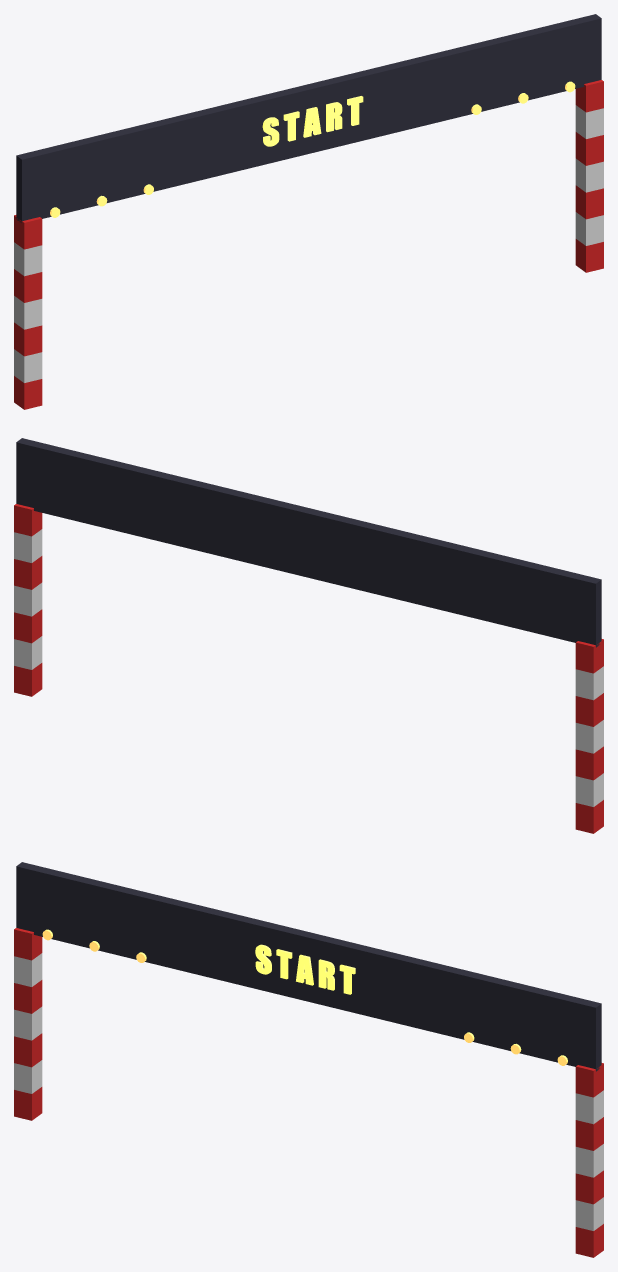
File: gantry_start.glb
3 views of the same model, one above another, from view 1: azimuth 30°, elevation 25°; view 2: azimuth 150°, elevation 25°; view 3: azimuth 330°, elevation 25° (orthographic).
Visible parts, largest first — view 1: banner, txt, p.006, p.002, p, p.001, p.003, p.010, p.012, p.004, p.009, p.011 (+5 smaller); view 2: banner, p.006, p.002, p, p.001, p.003, p.010, p.012, p.004, p.009, p.011, p.005 (+3 smaller); view 3: banner, txt, p.013, p.009, p.007, p.008, p.003, p.005, p.010, p.002, p.011, p.004 (+5 smaller).
Part boxes in pixels (bbox=[...]): banner: bbox=[16, 14, 601, 222]; txt: bbox=[262, 96, 363, 146]; p.006: bbox=[14, 215, 42, 249]; p.002: bbox=[14, 322, 42, 356]; p: bbox=[14, 376, 42, 409]; p.001: bbox=[14, 349, 42, 382]; p.003: bbox=[14, 296, 42, 329]; p.010: bbox=[575, 158, 603, 192]; p.012: bbox=[575, 105, 603, 138]; p.004: bbox=[14, 269, 42, 302]; p.009: bbox=[575, 185, 603, 219]; p.011: bbox=[575, 132, 603, 165]; banner: bbox=[16, 438, 601, 647]; p.006: bbox=[575, 639, 603, 673]; p.002: bbox=[575, 746, 603, 780]; p: bbox=[575, 800, 603, 833]; p.001: bbox=[575, 773, 603, 806]; p.003: bbox=[575, 720, 603, 753]; p.010: bbox=[14, 582, 42, 616]; p.012: bbox=[14, 529, 42, 562]; p.004: bbox=[575, 693, 603, 726]; p.009: bbox=[14, 609, 42, 643]; p.011: bbox=[14, 556, 42, 589]; p.005: bbox=[575, 666, 603, 700]; banner: bbox=[16, 862, 601, 1071]; txt: bbox=[255, 944, 355, 994]; p.013: bbox=[575, 1063, 603, 1097]; p.009: bbox=[575, 1170, 603, 1204]; p.007: bbox=[575, 1224, 603, 1257]; p.008: bbox=[575, 1197, 603, 1230]; p.003: bbox=[14, 1006, 42, 1040]; p.005: bbox=[14, 953, 42, 986]; p.010: bbox=[575, 1144, 603, 1177]; p.002: bbox=[14, 1033, 42, 1067]; p.011: bbox=[575, 1117, 603, 1150]; p.004: bbox=[14, 980, 42, 1013].
Bounding box in the file's own units: 22.7 × 9.3 × 0.7.
